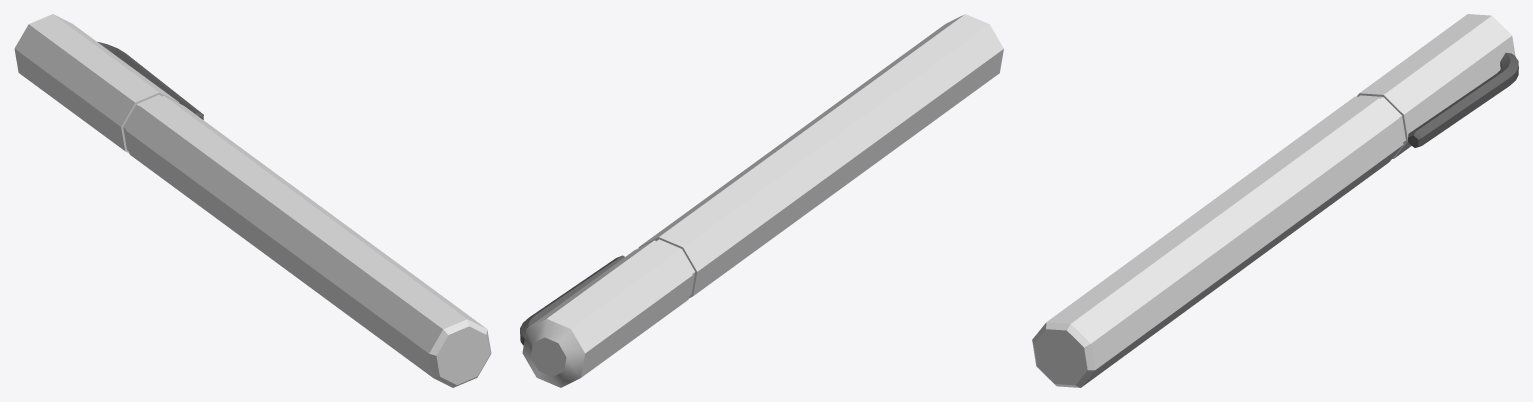
File: Lapiz14.fbx
The picture shows the model from 3 angles, left to right: view 1: azimuth 30°, elevation 25°; view 2: azimuth 150°, elevation 25°; view 3: azimuth 330°, elevation 25°; orthographic projection.
Parts seen in each view (by area): view 1: Lapiz14; view 2: Lapiz14; view 3: Lapiz14.
Part boxes in pixels (x1,y1,x2,y2): Lapiz14: (14, 14, 491, 387); Lapiz14: (520, 14, 1003, 387); Lapiz14: (1032, 14, 1518, 387).
Bounding box in the file's own units: 2.08 × 1.55 × 18.01.
